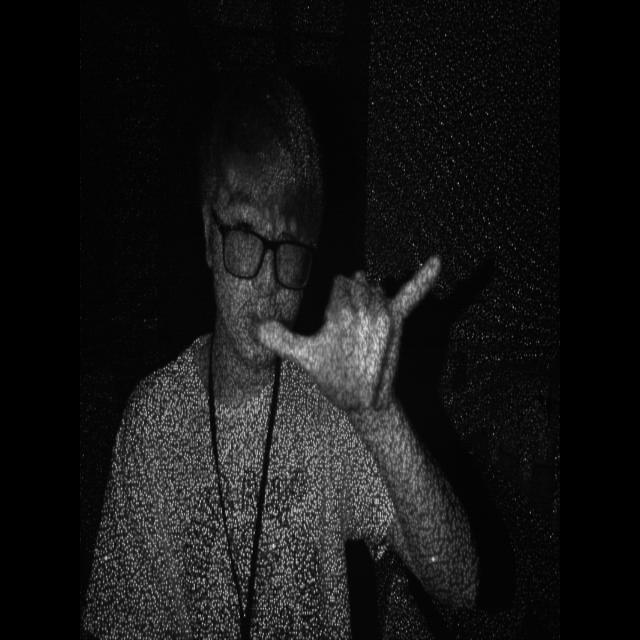Y: (255, 252, 445, 421)
